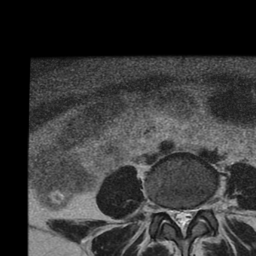CCS_normal: (177, 200, 186, 243)
LFS_stenosis: (195, 196, 205, 222)
LLS_normal: (186, 199, 196, 232)
RFS_stenosis: (159, 196, 169, 222)
RLS_normal: (168, 199, 177, 232)
